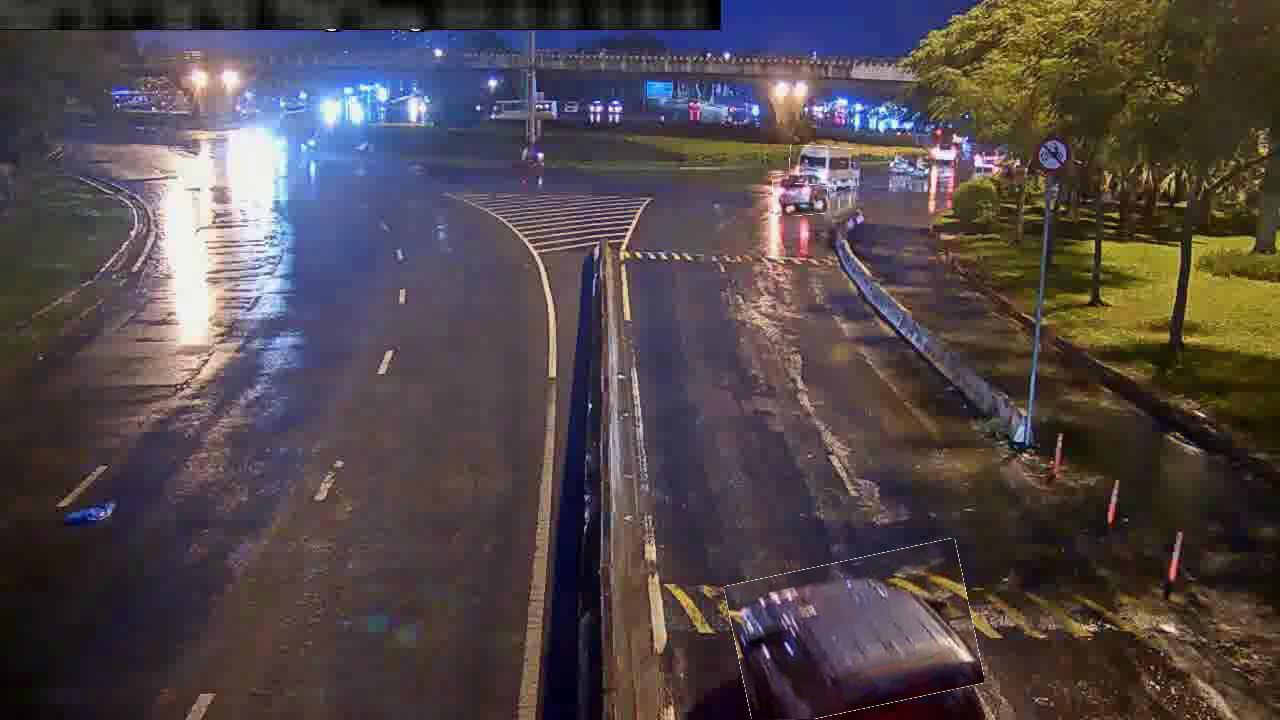14: (790, 146, 860, 186)
container: (730, 549, 980, 719), (773, 172, 829, 216)
